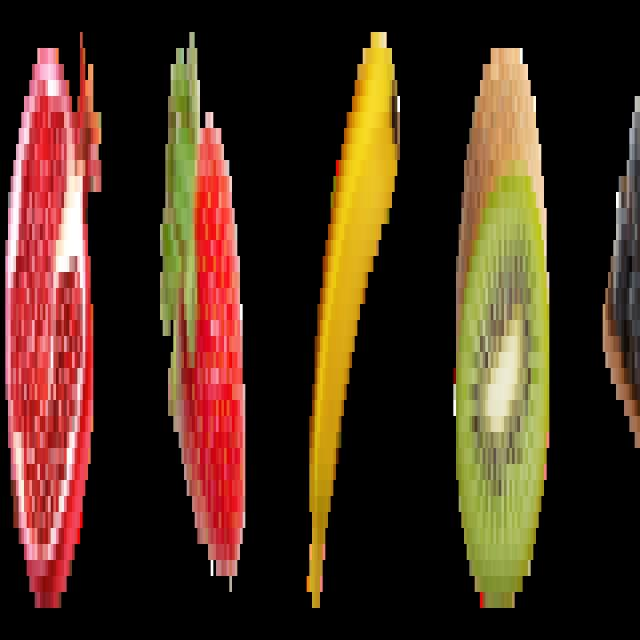bananas: (301, 13, 404, 620)
kiwifruit: (451, 13, 554, 619)
pomegranate: (3, 22, 106, 623)
strawberry: (155, 16, 252, 607)
